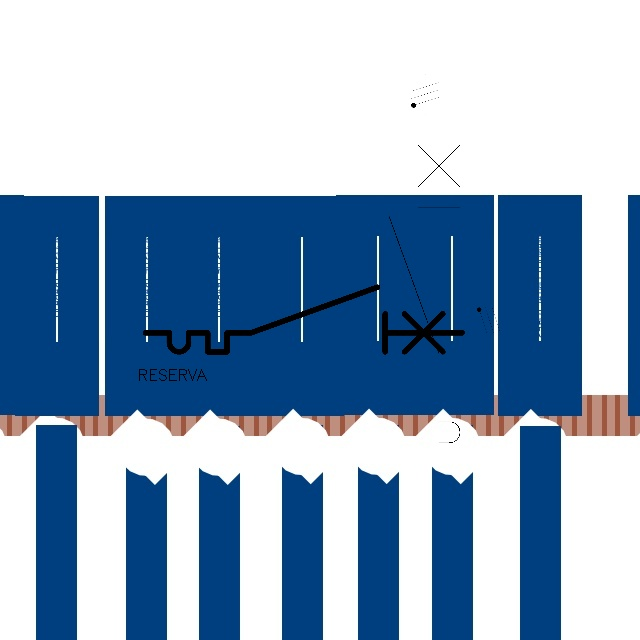interruptor_termomagnetico: (380, 115, 469, 478), (137, 279, 470, 360)
